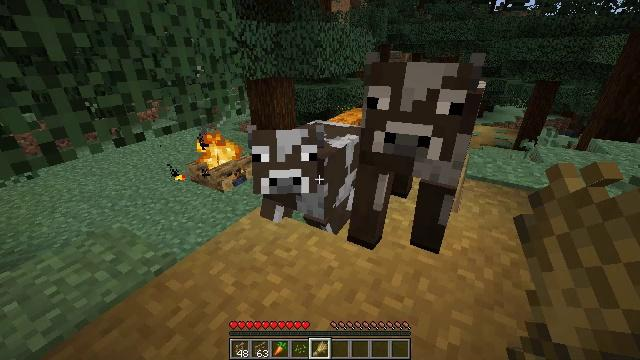cow: (349, 51, 485, 254), (252, 114, 368, 235)
